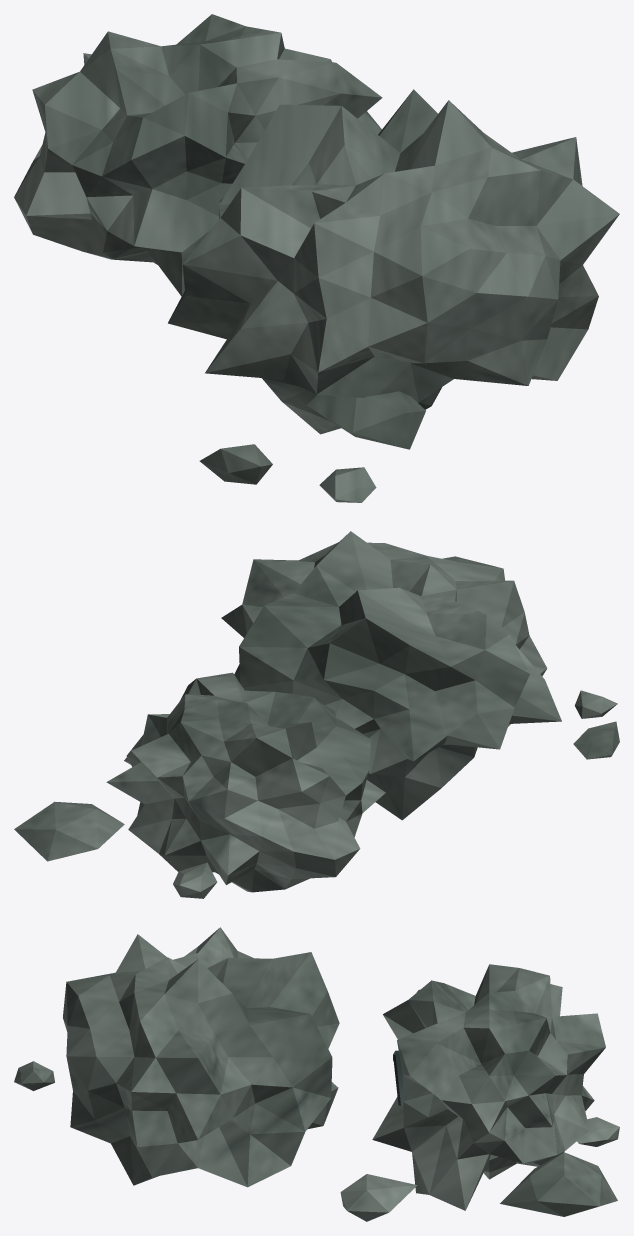
File: 0019_boulder_19.glb
The picture shows the model from 3 angles, top to bottom: view 1: azimuth 30°, elevation 25°; view 2: azimuth 150°, elevation 25°; view 3: azimuth 270°, elevation 25°; orthographic projection. The views are drawn at different scales.
Parts seen in each view (by area): view 1: stone; view 2: stone; view 3: stone.
Part boxes in pixels (box(x1,y1,x2,y2)): stone: box(14, 14, 619, 502); stone: box(14, 531, 619, 898); stone: box(14, 927, 619, 1221).
Bounding box in the file's own units: 1.19 × 0.8016 × 1.74.
Materials: 2 (2 with a texture image).
